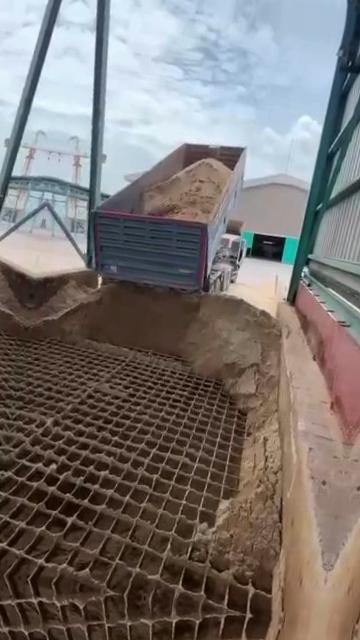sand: (30, 284, 280, 588), (138, 159, 231, 222), (26, 280, 95, 325)
